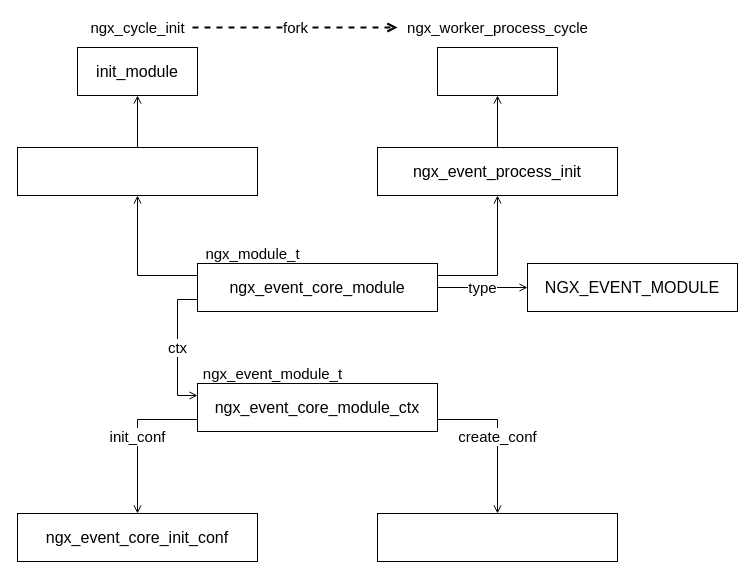
The diagram is 755 pixels wide and 579 high, and some of its shapes have lost their labels. The shapes that lost their labels are listed below. From the top down, each one's centre as x and y in pixels, then its label:
pixel 497 71: init_process
pixel 137 171: ngx_event_module_init
pixel 497 537: ngx_event_core_create_conf
